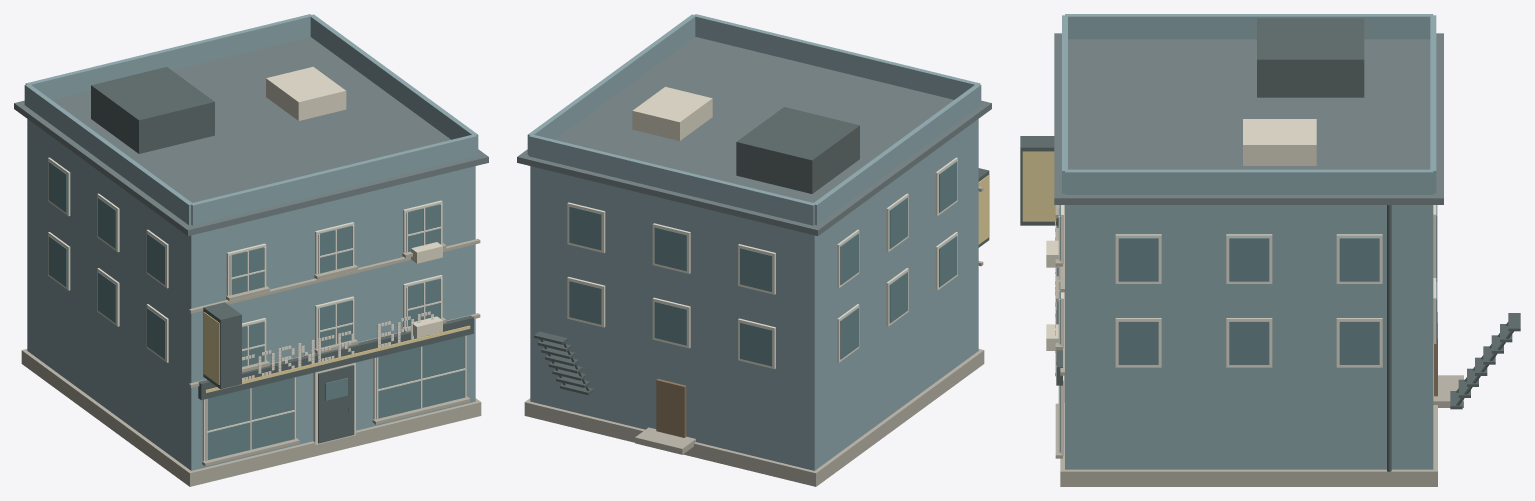
3 views of the same model, side by side, from view 1: azimuth 30°, elevation 25°; view 2: azimuth 150°, elevation 25°; view 3: azimuth 270°, elevation 25° (orthographic). The views are drawn at different scales.
Bounding box in the file's own units: 12.7 × 11.83 × 16.3.
